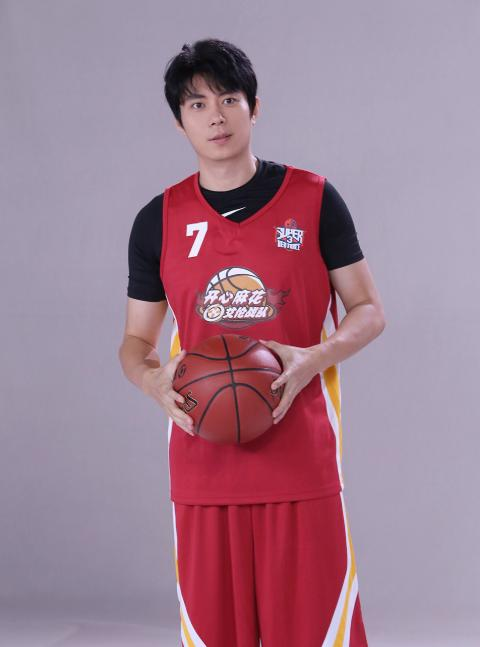ball: (170, 335, 287, 445)
